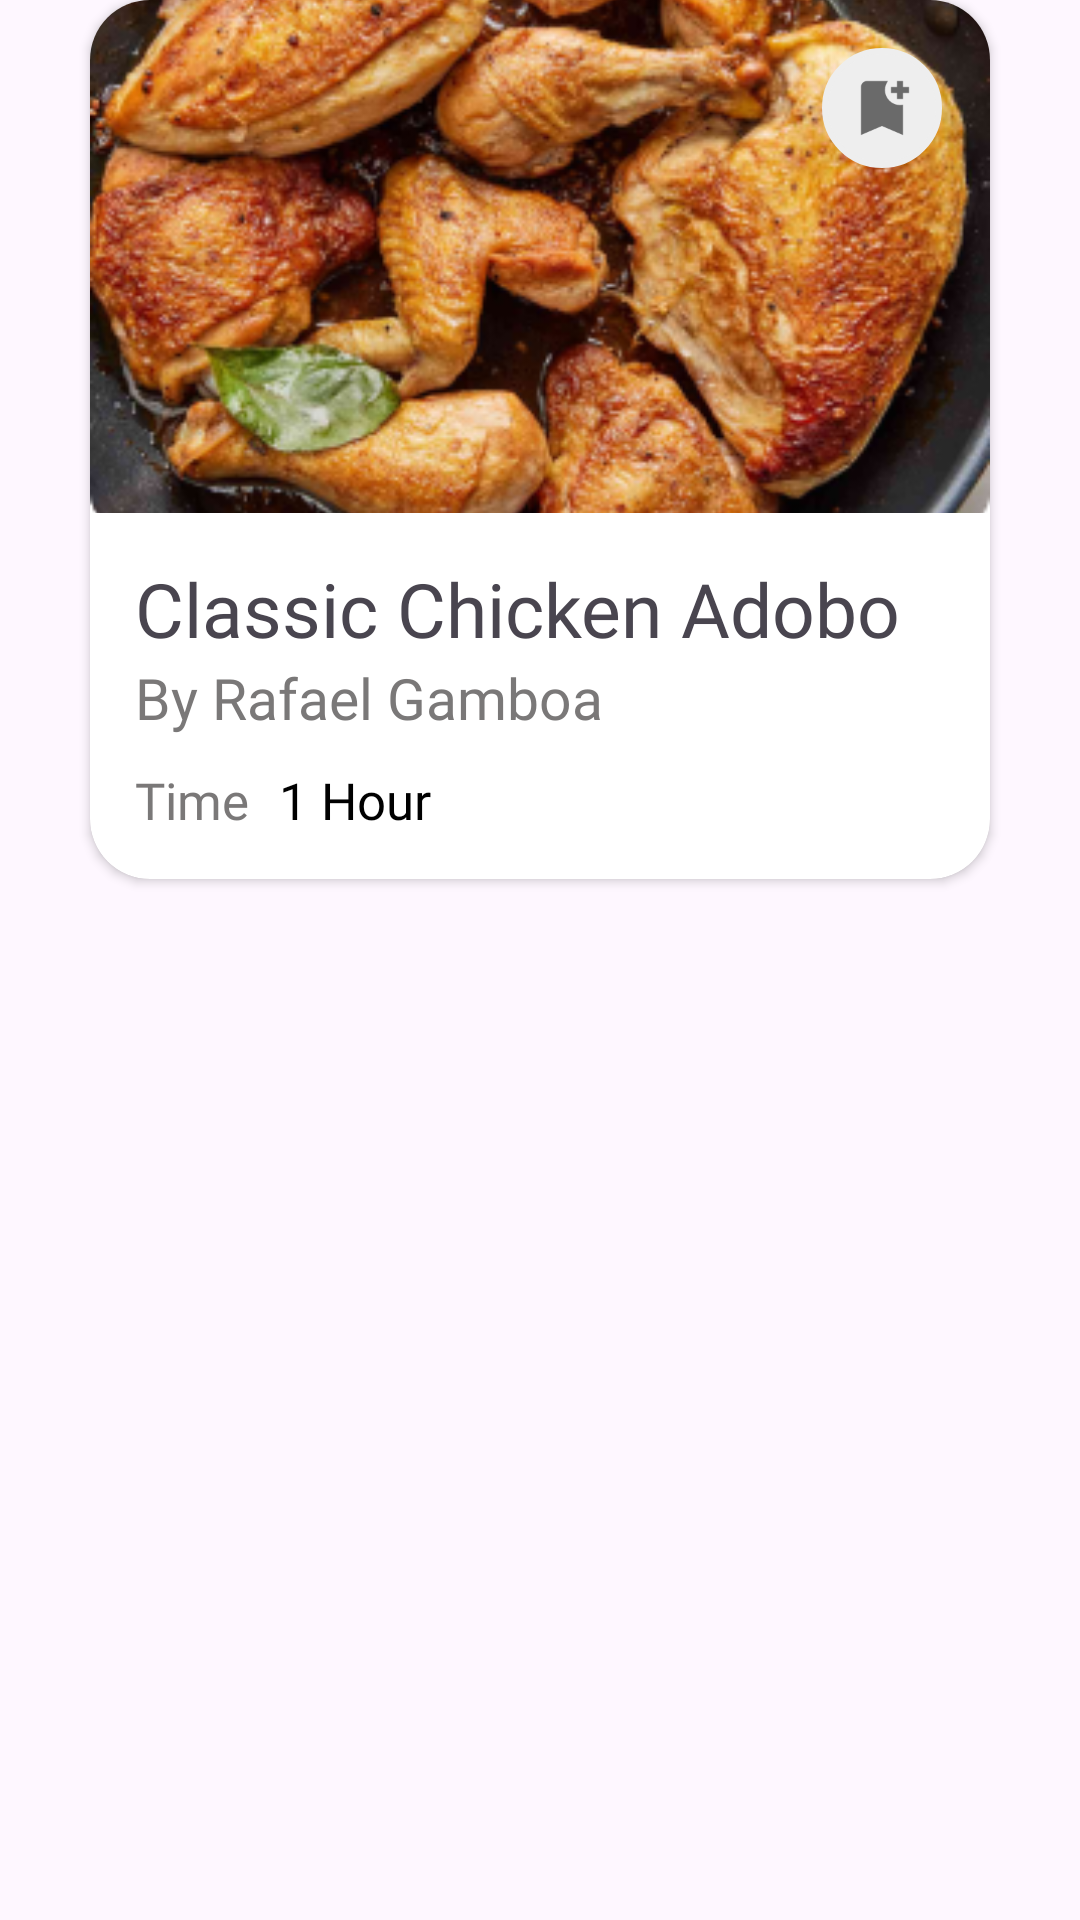

Point at icon controls on the screen. Image size 1080px×1920px, points as point (x, y).
Bookmark: point (882, 108)
